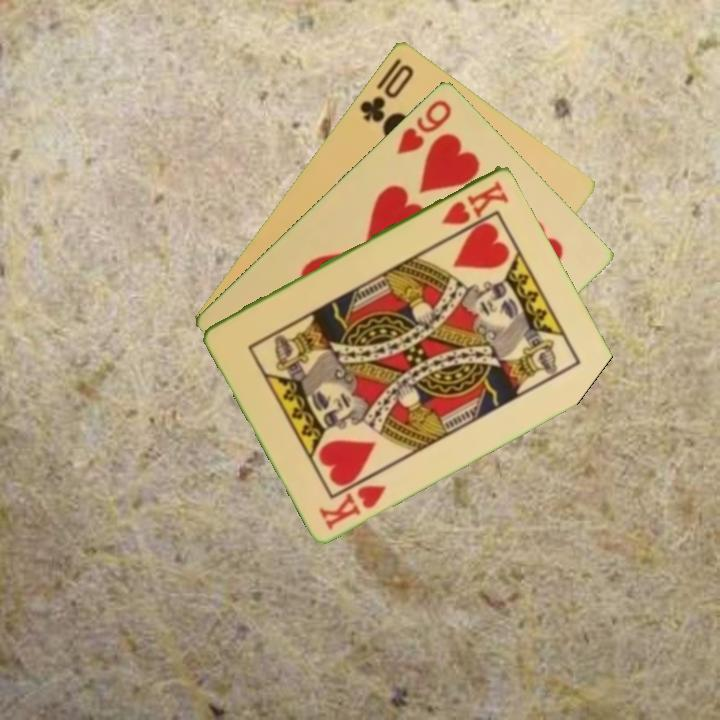10c: (355, 60, 417, 126)
9h: (393, 95, 454, 157)
Kh: (315, 480, 390, 532), (438, 176, 512, 228)
